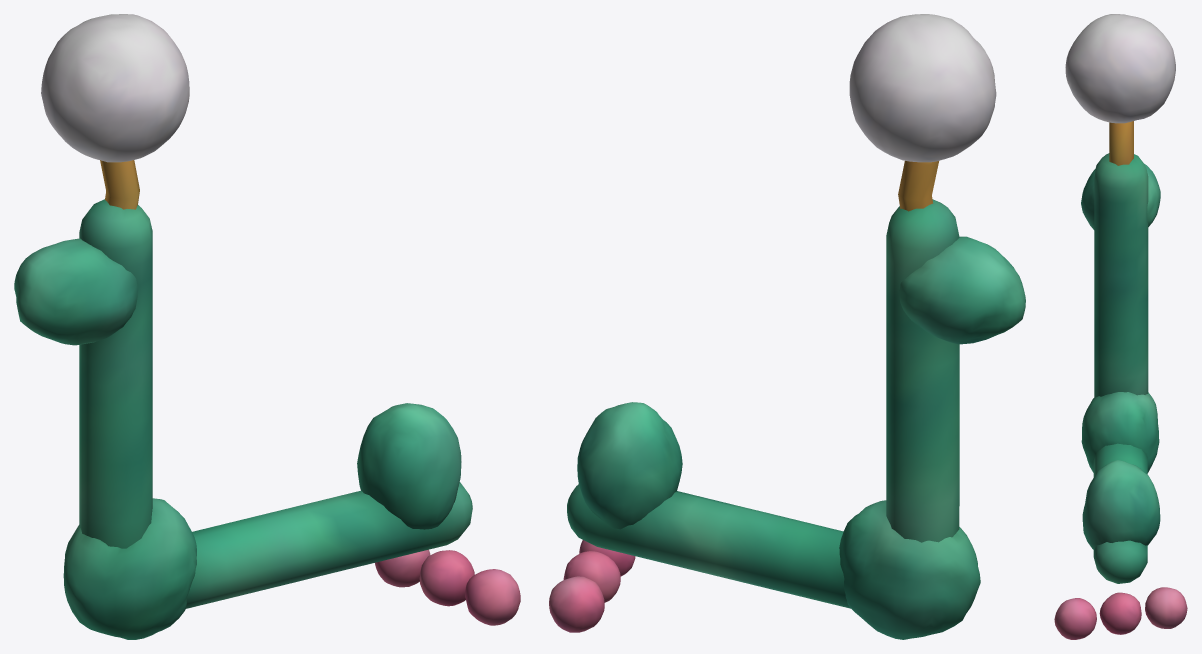
The model's file is trna.glb.
The picture shows the model from 3 angles, left to right: view 1: azimuth 30°, elevation 25°; view 2: azimuth 150°, elevation 25°; view 3: azimuth 270°, elevation 25°; orthographic projection. The views are drawn at different scales.
Visible parts, largest first — view 1: trna-body, trna-amino-acid, trna-anticodon, trna-acceptor; view 2: trna-body, trna-amino-acid, trna-anticodon, trna-acceptor; view 3: trna-body, trna-amino-acid, trna-anticodon, trna-acceptor.
Boxes of the visible parts, left/top/right/bottom form: trna-body: left=14, top=199, right=472, bottom=639; trna-amino-acid: left=41, top=14, right=189, bottom=162; trna-anticodon: left=375, top=549, right=520, bottom=625; trna-acceptor: left=100, top=160, right=139, bottom=209; trna-body: left=567, top=199, right=1025, bottom=639; trna-amino-acid: left=849, top=14, right=996, bottom=162; trna-anticodon: left=549, top=540, right=635, bottom=632; trna-acceptor: left=898, top=161, right=938, bottom=211; trna-body: left=1081, top=153, right=1160, bottom=583; trna-amino-acid: left=1065, top=14, right=1175, bottom=123; trna-anticodon: left=1054, top=587, right=1187, bottom=639; trna-acceptor: left=1109, top=121, right=1133, bottom=165.
Size of what is drawn, in the model's own units: 1.24 by 1.68 by 0.4121.
